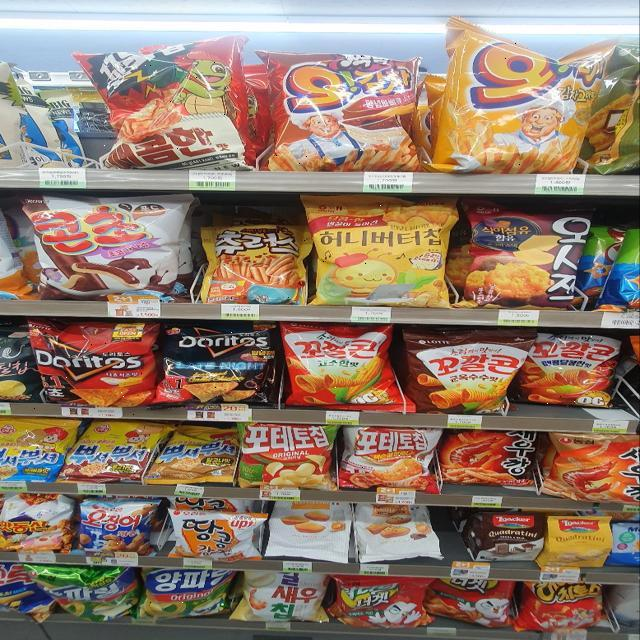product: (448, 27, 605, 171), (270, 51, 417, 169), (90, 51, 244, 161), (26, 198, 184, 301), (310, 201, 449, 303), (468, 208, 586, 307), (33, 325, 152, 415), (155, 326, 281, 404), (410, 334, 525, 418), (160, 320, 276, 402), (290, 326, 394, 413), (199, 229, 305, 301), (524, 331, 619, 404), (244, 424, 336, 488), (344, 426, 436, 489), (550, 441, 640, 504), (441, 426, 535, 485), (147, 430, 233, 487), (83, 501, 169, 554), (149, 569, 236, 619), (174, 515, 262, 557)
